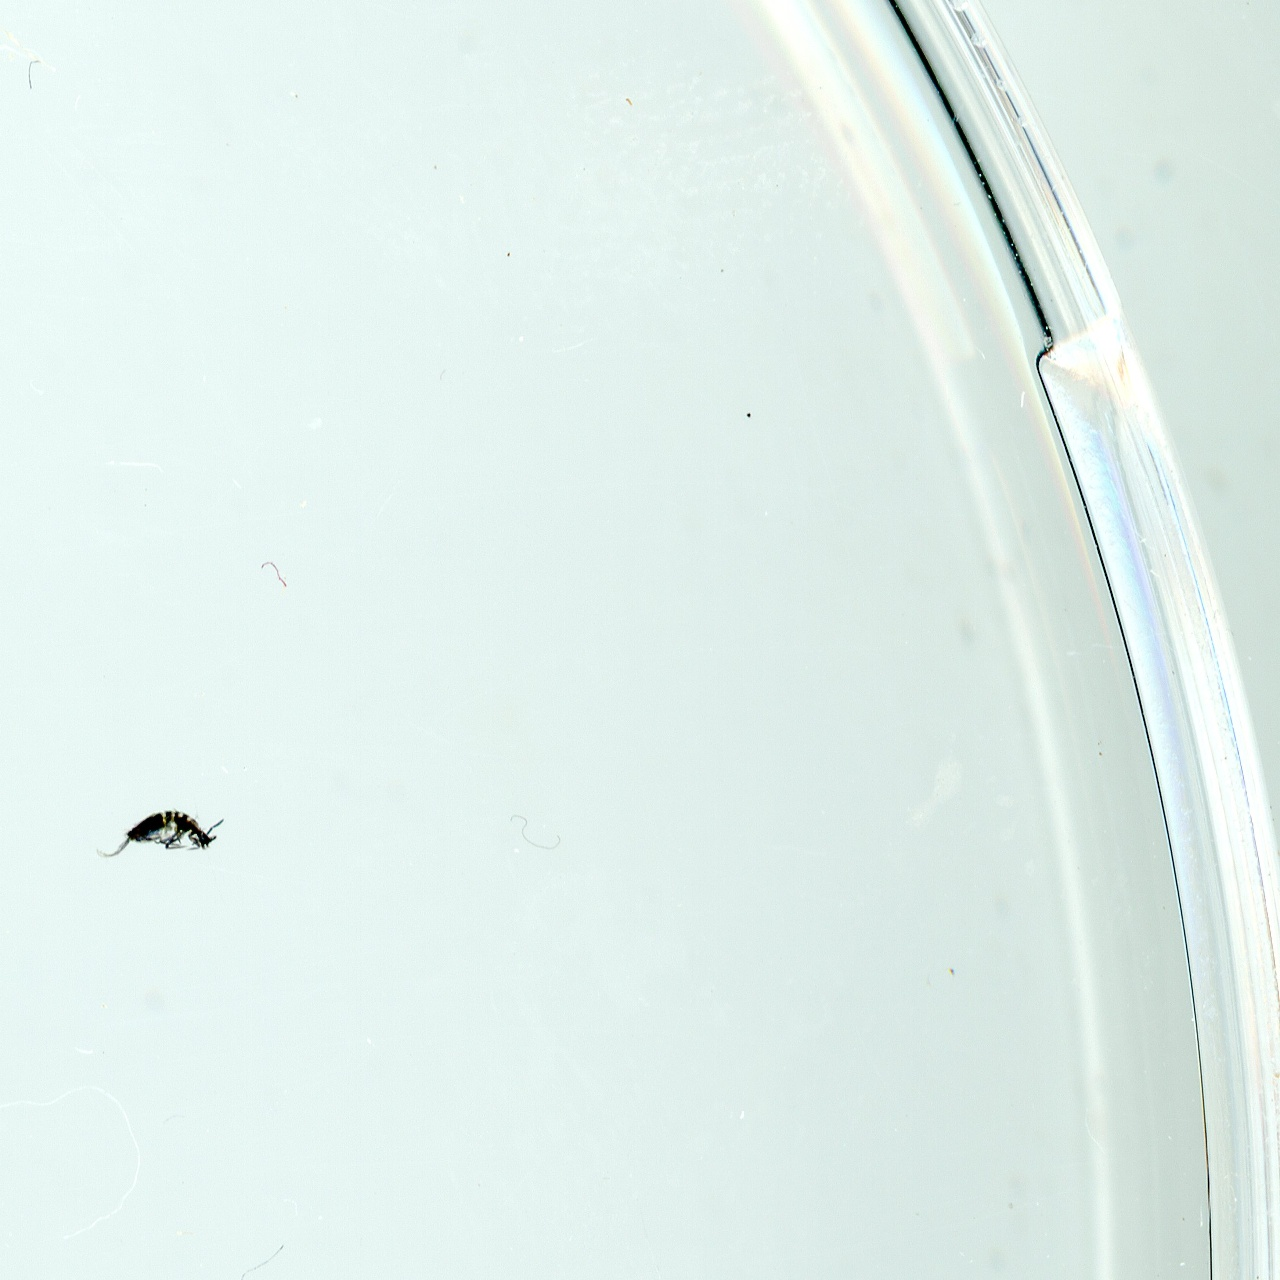arthropod: (73, 761, 292, 917)
